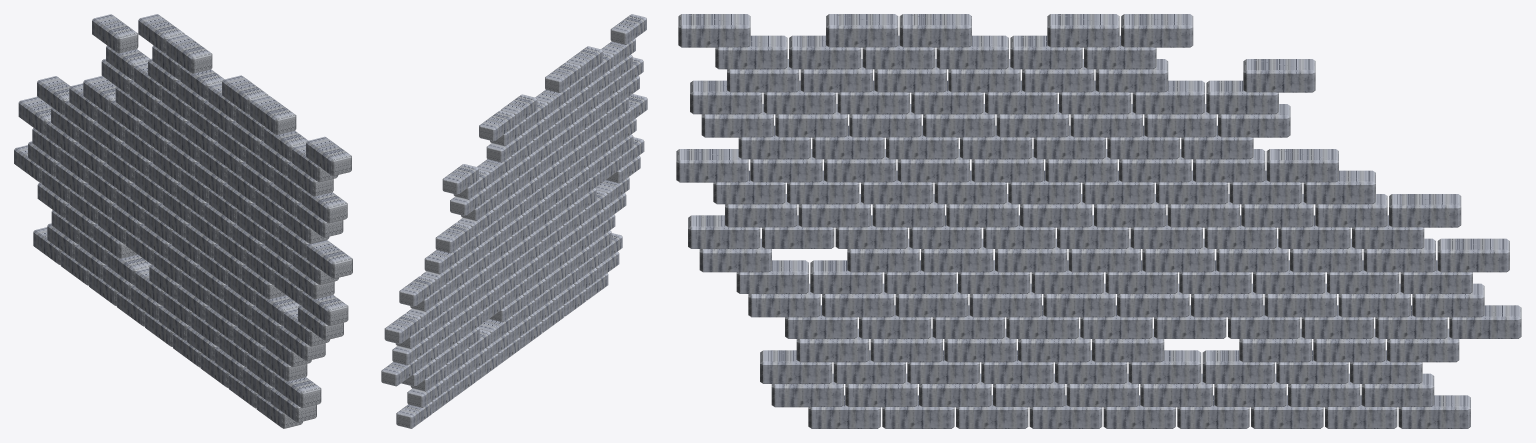
The model's file is brick wall.fbx.
The picture shows the model from 3 angles, left to right: view 1: azimuth 30°, elevation 25°; view 2: azimuth 150°, elevation 25°; view 3: azimuth 270°, elevation 25°; orthographic projection. The views are drawn at different scales.
Visible parts, largest first — view 1: MASH1_ReproMesh; view 2: MASH1_ReproMesh; view 3: MASH1_ReproMesh.
Part boxes in pixels (x1,y1,x2,y2): MASH1_ReproMesh: (14, 14, 352, 428); MASH1_ReproMesh: (381, 14, 647, 428); MASH1_ReproMesh: (676, 14, 1521, 428).
Bounding box in the file's own units: 1 × 13.75 × 26.07.
